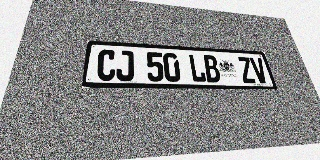0: (163, 53, 181, 82)
5: (146, 52, 164, 82)
B: (202, 55, 222, 83)
C: (96, 49, 116, 81)
J: (116, 50, 134, 81)
L: (188, 54, 207, 82)
V: (249, 57, 269, 83)
Z: (237, 57, 257, 83)
